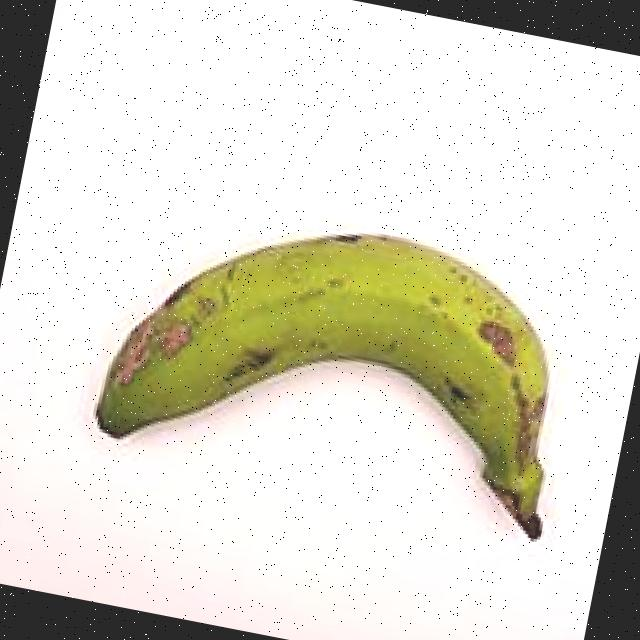Raw: (61, 169, 612, 576)
